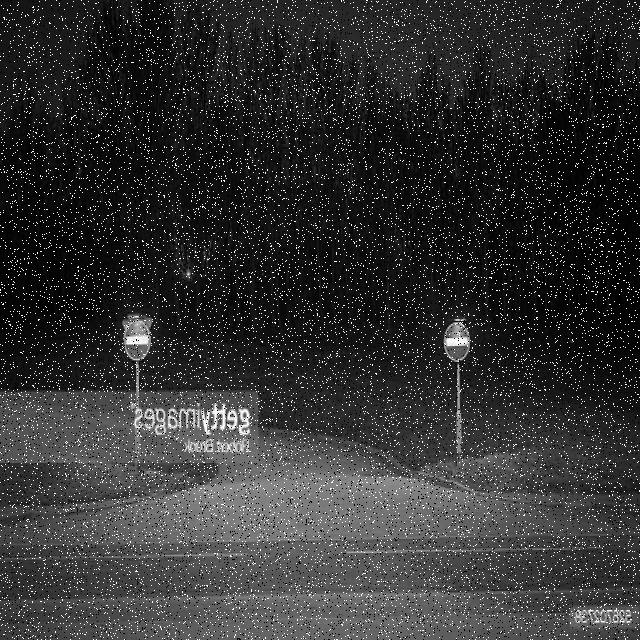no entry: (126, 321, 150, 360), (446, 322, 470, 360)
